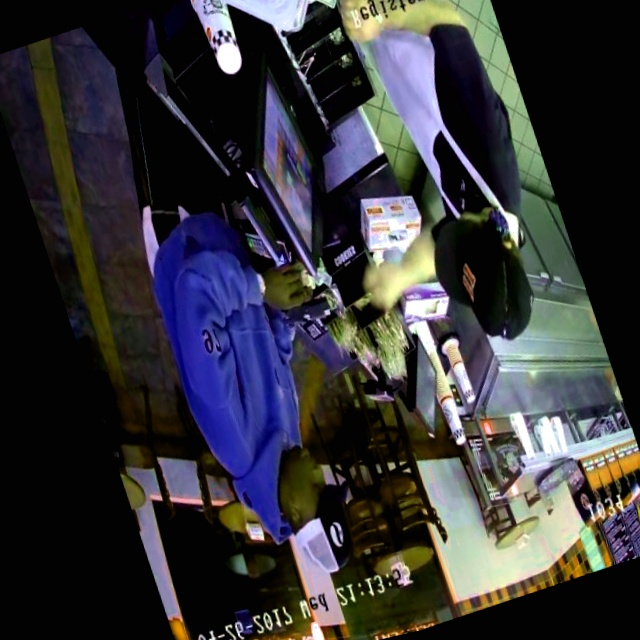gun: (253, 255, 355, 362)
